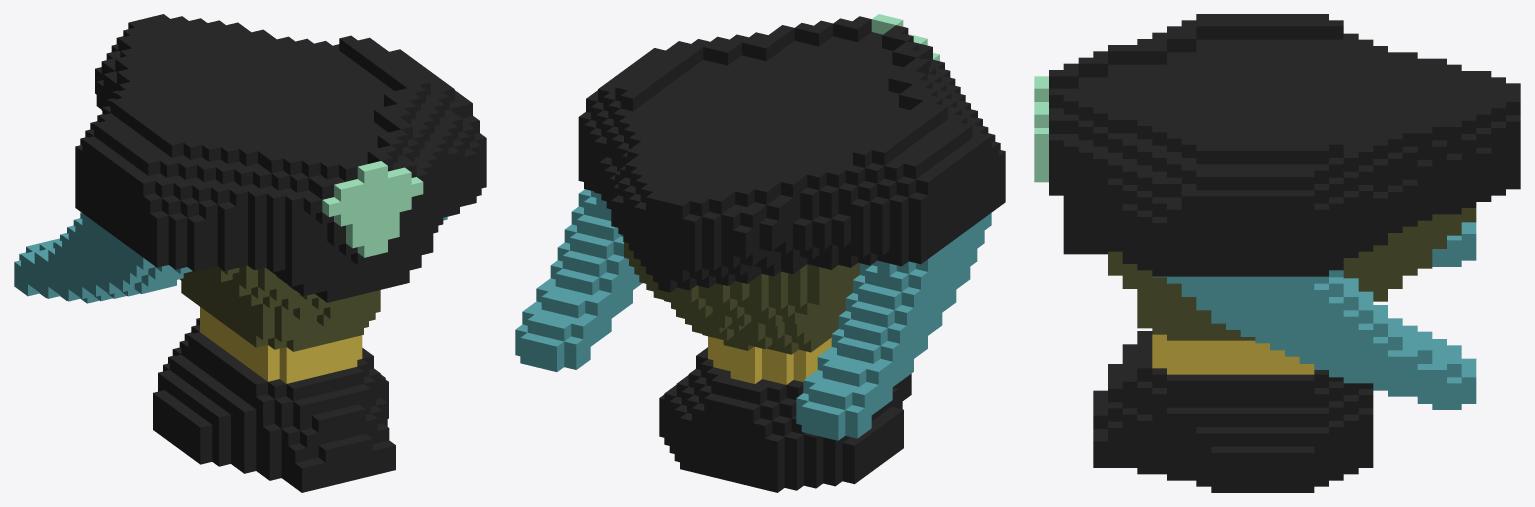
File: speed_mecha-1.obj
The picture shows the model from 3 angles, left to right: view 1: azimuth 30°, elevation 25°; view 2: azimuth 150°, elevation 25°; view 3: azimuth 270°, elevation 25°; orthographic projection. The views are drawn at different scales.
Visible parts, largest first — view 1: speed_mecha-1; view 2: speed_mecha-1; view 3: speed_mecha-1.
Part boxes in pixels (<box>): speed_mecha-1: <box>14,14,486,492</box>; speed_mecha-1: <box>515,14,1005,492</box>; speed_mecha-1: <box>1034,14,1520,492</box>.
Size of the model in its own units: 28 by 27 by 33.
1 material, 1 textured.
